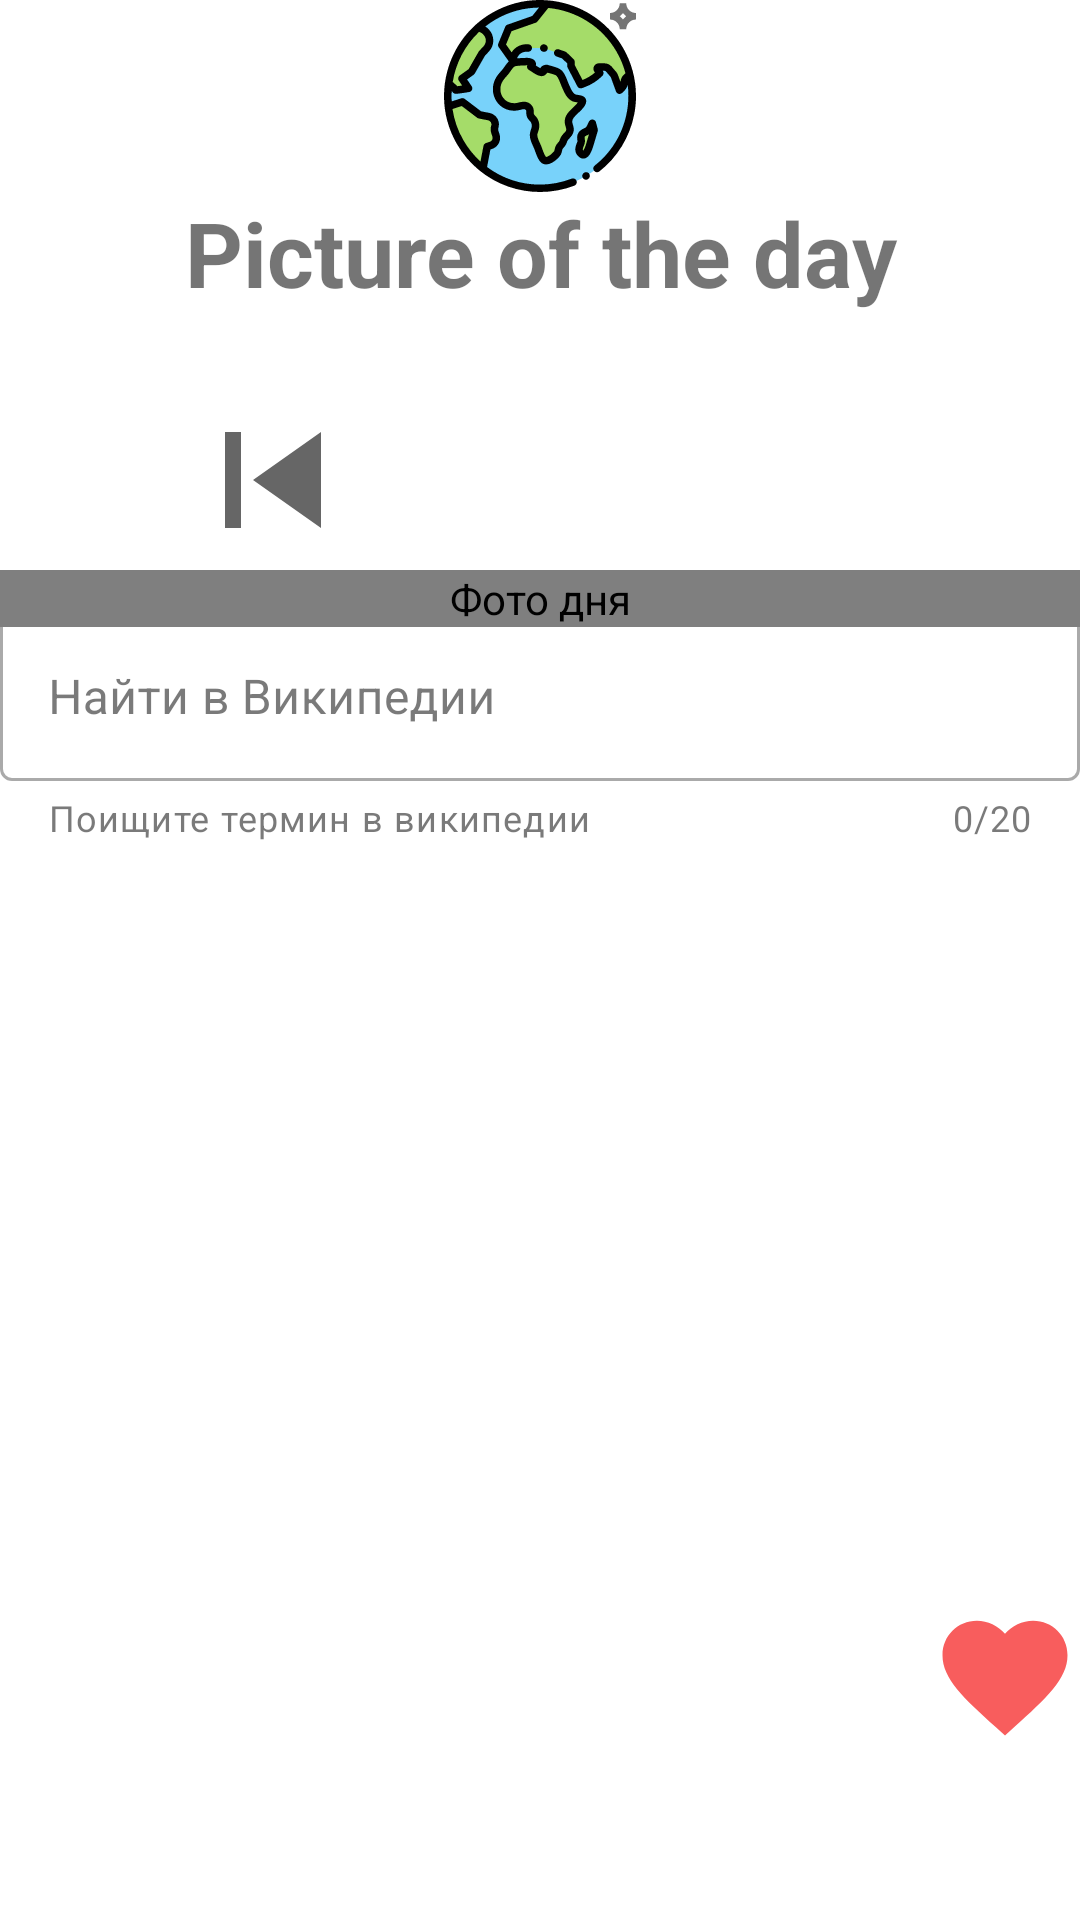

Screen size 1080px x 1920px. Icon name, then its center in pixels as (x,y):
like: (1005,1677)
previous: (273,480)
